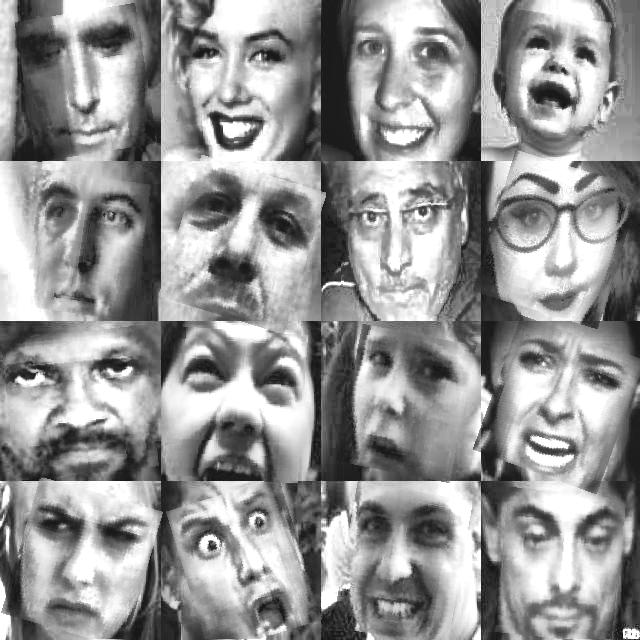angry: (483, 324, 635, 485), (9, 484, 154, 640), (20, 8, 152, 158)
fear: (175, 484, 312, 640), (168, 328, 306, 481), (342, 329, 470, 479), (341, 170, 461, 315)
happy: (338, 485, 466, 640), (179, 14, 305, 158), (344, 17, 464, 157)
neutral: (168, 163, 317, 327), (482, 158, 631, 322), (4, 329, 156, 477), (22, 172, 146, 318)
sad: (497, 490, 622, 640), (505, 12, 609, 135)
